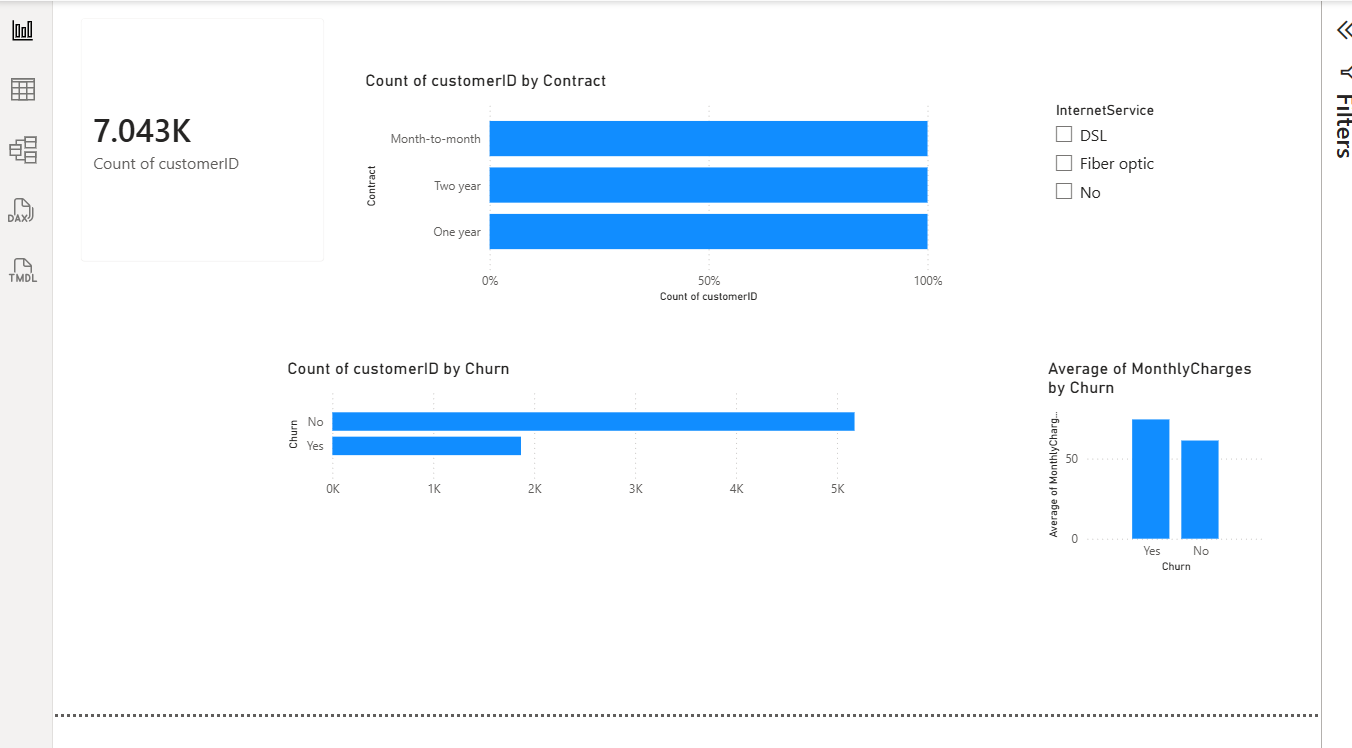

Layout of this report page (visuals, bound fields, positions):
{"tool":"powerbi","page":{"name":"Page 1","canvas":[1280,720],"ordinal":0},"visuals":[{"type":"cardVisual","fields":{"Data":["Count(WA_Fn-UseC_-Telco-Customer-Churn.customerID)"]},"box":[10,0,280,280],"z":0},{"type":"hundredPercentStackedBarChart","fields":{"Category":["WA_Fn-UseC_-Telco-Customer-Churn.Contract"],"Y":["Count(WA_Fn-UseC_-Telco-Customer-Churn.customerID)"]},"box":[310.4,69.7,592.1,239.2],"z":1},{"type":"barChart","fields":{"Category":["WA_Fn-UseC_-Telco-Customer-Churn.Churn"],"Y":["CountNonNull(WA_Fn-UseC_-Telco-Customer-Churn.customerID)"]},"box":[231.7,360.4,622.3,149.9],"z":2},{"type":"slicer","fields":{"Values":["WA_Fn-UseC_-Telco-Customer-Churn.InternetService"]},"box":[999.4,96.9,280.1,160.5],"z":3},{"type":"clusteredColumnChart","fields":{"Category":["WA_Fn-UseC_-Telco-Customer-Churn.Churn"],"Y":["Avg(WA_Fn-UseC_-Telco-Customer-Churn.MonthlyCharges)"]},"box":[999.4,360.4,228.6,221.1],"z":4}]}

Visuals, with their boxes on the page's 1280x720 design canvas (x1, y1, x2, y2). These are canvas units, not pixel positions in the 1352x748 screenshot, which may show the page scaled, cropped or inside an application window:
cardVisual - Count(WA_Fn-UseC_-Telco-Customer-Churn.customerID): [left=10, top=0, right=290, bottom=280]
hundredPercentStackedBarChart - WA_Fn-UseC_-Telco-Customer-Churn.Contract x Count(WA_Fn-UseC_-Telco-Customer-Churn.customerID): [left=310, top=70, right=902, bottom=309]
barChart - WA_Fn-UseC_-Telco-Customer-Churn.Churn x CountNonNull(WA_Fn-UseC_-Telco-Customer-Churn.customerID): [left=232, top=360, right=854, bottom=510]
slicer - WA_Fn-UseC_-Telco-Customer-Churn.InternetService: [left=999, top=97, right=1280, bottom=257]
clusteredColumnChart - WA_Fn-UseC_-Telco-Customer-Churn.Churn x Avg(WA_Fn-UseC_-Telco-Customer-Churn.MonthlyCharges): [left=999, top=360, right=1228, bottom=582]
